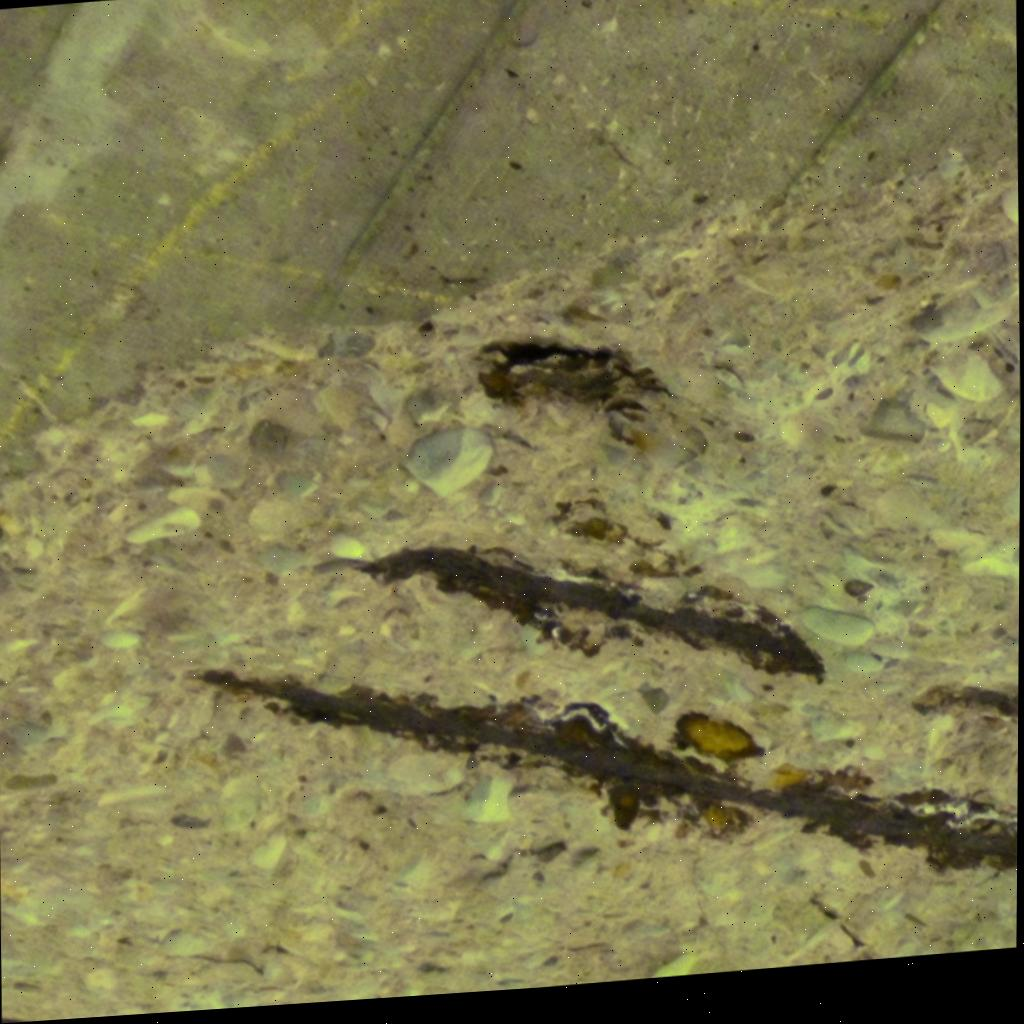exposed_rebar: (200, 668, 1017, 868), (337, 546, 820, 676), (479, 340, 667, 404)
spalling: (0, 147, 1020, 1022)
